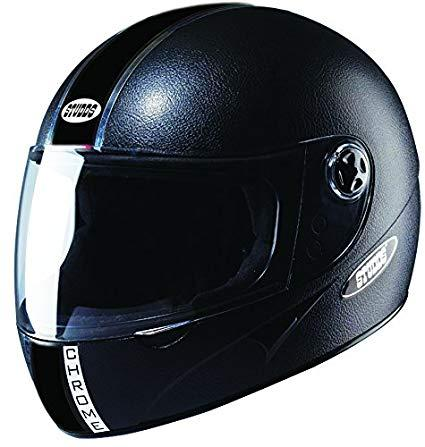helmet: (16, 3, 417, 436)
